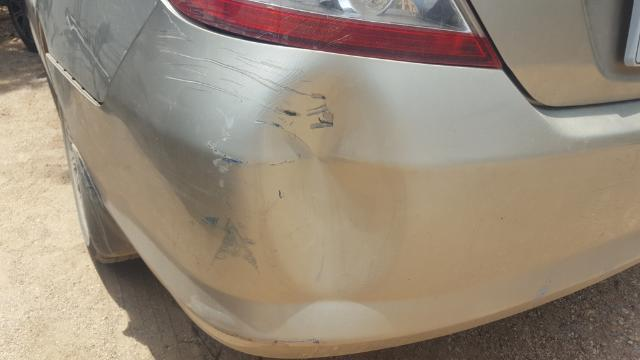dent: (259, 57, 406, 294)
scratch: (155, 28, 297, 279)
